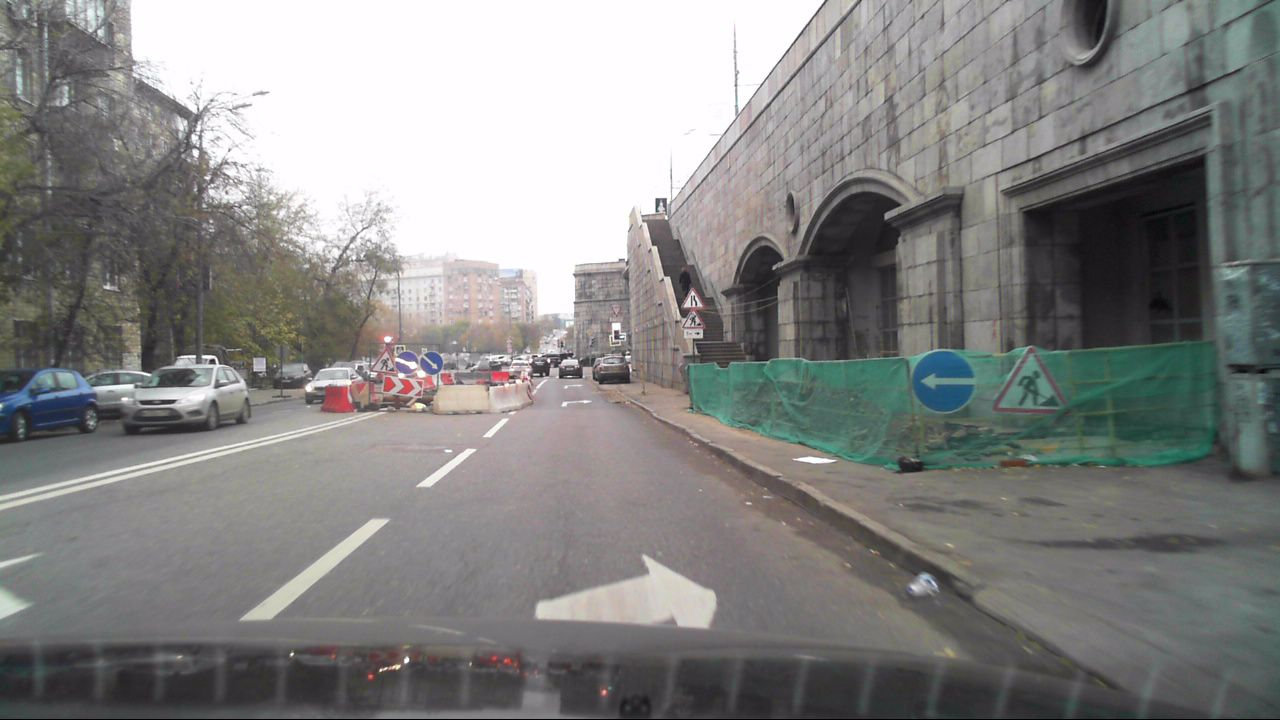Turn Left: (912, 350, 977, 413)
